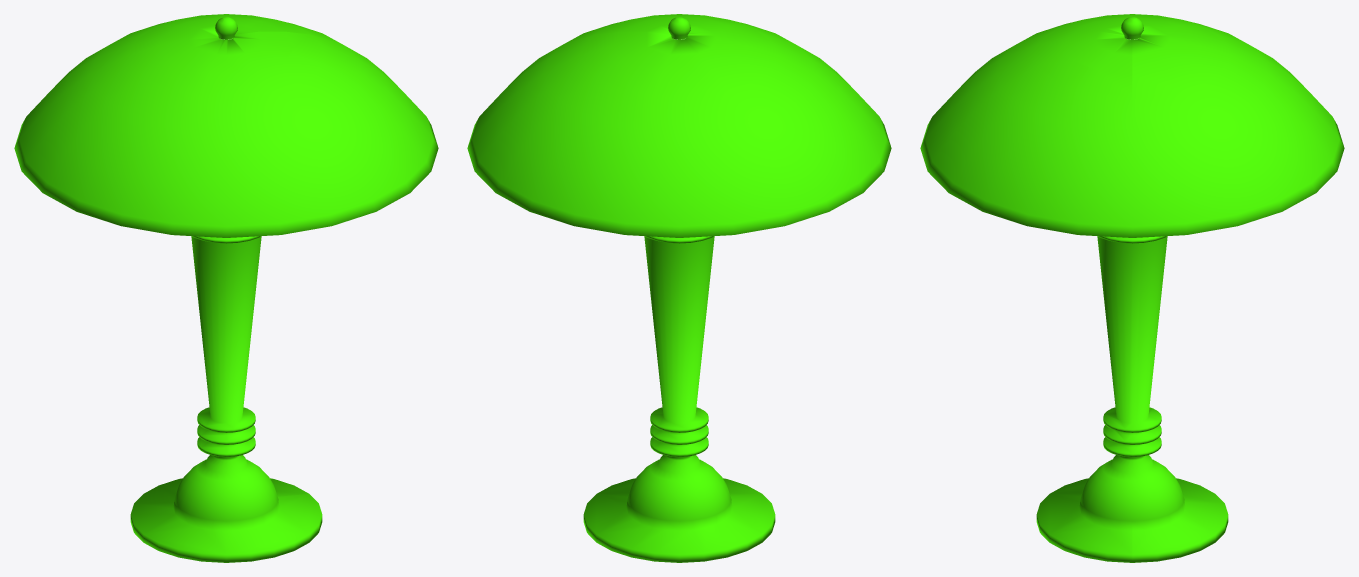
File: lamp_edtied.gltf
3 views of the same model, side by side, from view 1: azimuth 30°, elevation 25°; view 2: azimuth 150°, elevation 25°; view 3: azimuth 270°, elevation 25° (orthographic).
Visible parts, largest first — view 1: emission high 1.001_2; view 2: emission high 1.001_2; view 3: emission high 1.001_2.
Part boxes in pixels (box(x1,y1,x2,y2)): emission high 1.001_2: box(14, 14, 438, 562); emission high 1.001_2: box(467, 14, 891, 562); emission high 1.001_2: box(920, 14, 1344, 562).
Bounding box in the file's own units: 0.4432 × 0.5813 × 0.4432.
Materials: 2 (1 with a texture image).
